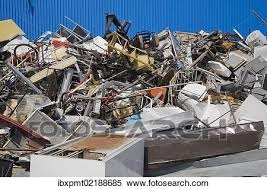metal: (101, 29, 157, 74), (55, 13, 94, 47)
